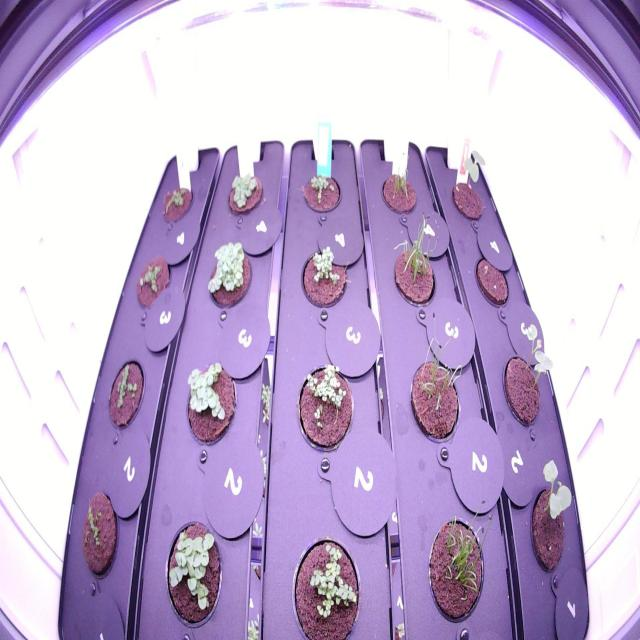germination: (418, 488, 500, 632), (403, 319, 471, 456), (288, 527, 366, 639), (154, 514, 227, 632), (291, 352, 360, 463), (527, 457, 578, 582), (502, 320, 556, 433), (182, 358, 242, 452), (389, 214, 441, 316), (77, 485, 124, 585), (448, 141, 496, 233), (294, 238, 352, 313), (102, 353, 149, 438), (371, 149, 423, 225), (132, 251, 176, 321), (297, 161, 342, 219), (223, 167, 266, 222), (158, 177, 197, 233)
pod: (470, 249, 513, 313)
